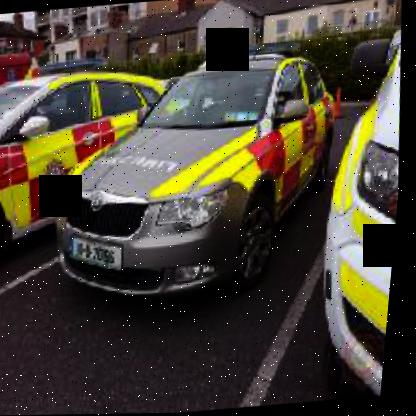emergency: (0, 43, 371, 395)
